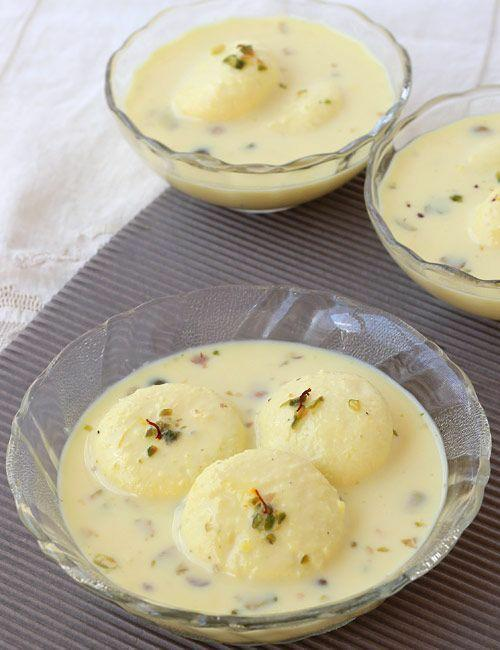RasMalai: (72, 343, 446, 618), (123, 10, 393, 163)
